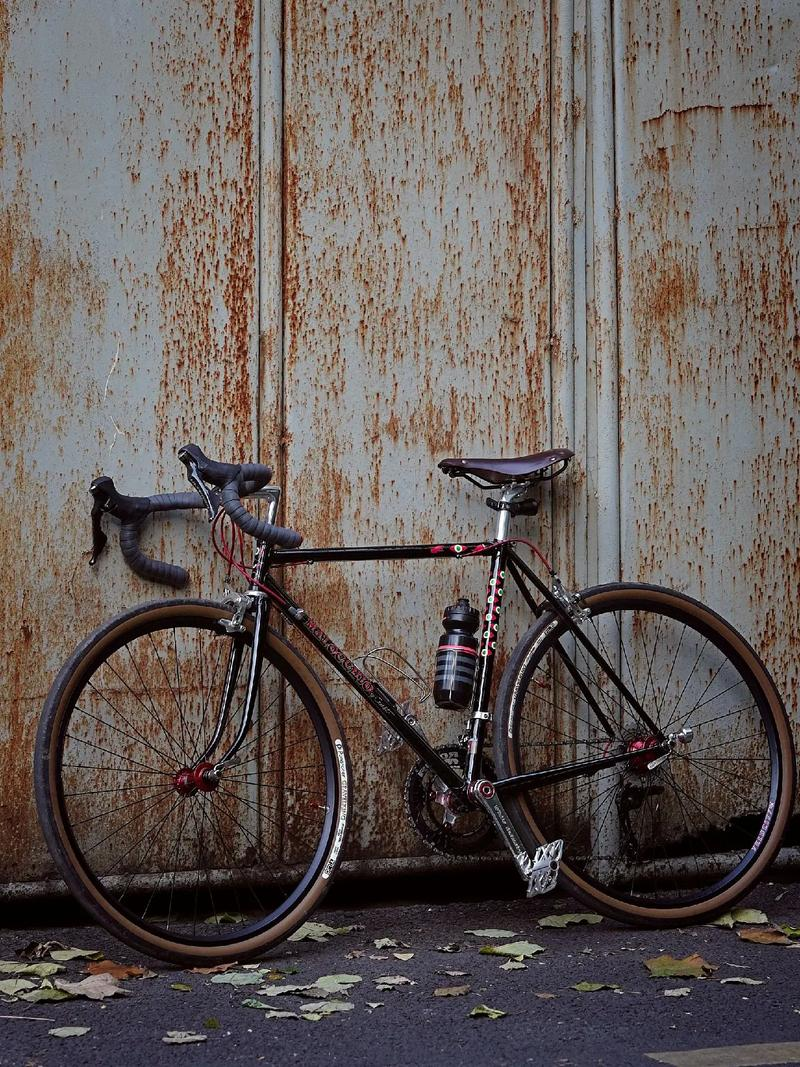单车: (26, 430, 800, 966)
